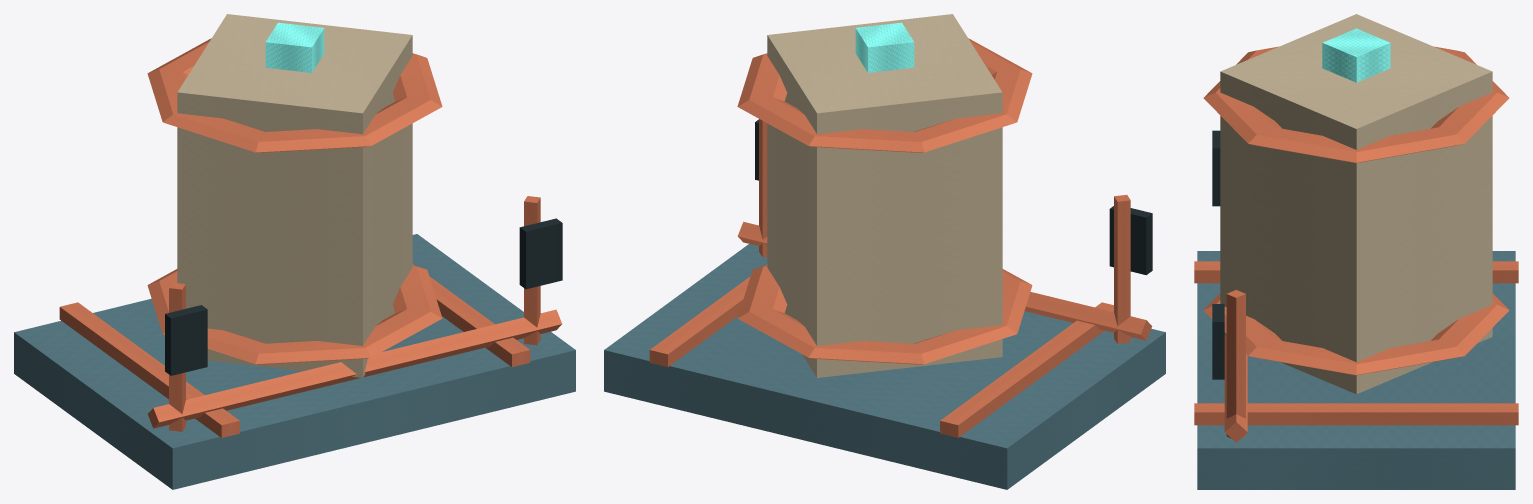
File: atlas100-s045-a02.lod2.glb
3 renders of one model, left to right at view 1: azimuth 30°, elevation 25°; view 2: azimuth 150°, elevation 25°; view 3: azimuth 270°, elevation 25°, orthographic.
Parts seen in each view (by area): view 1: atlas100-s045-a02:part-003, atlas100-s045-a02:part-000, atlas100-s045-a02:part-005, atlas100-s045-a02:part-011, atlas100-s045-a02:part-004, atlas100-s045-a02:part-001, atlas100-s045-a02:part-010, atlas100-s045-a02:part-008, atlas100-s045-a02:part-006, atlas100-s045-a02:part-002, atlas100-s045-a02:part-007, atlas100-s045-a02:part-009; view 2: atlas100-s045-a02:part-003, atlas100-s045-a02:part-000, atlas100-s045-a02:part-005, atlas100-s045-a02:part-004, atlas100-s045-a02:part-001, atlas100-s045-a02:part-011, atlas100-s045-a02:part-002, atlas100-s045-a02:part-006, atlas100-s045-a02:part-007, atlas100-s045-a02:part-008, atlas100-s045-a02:part-009; view 3: atlas100-s045-a02:part-003, atlas100-s045-a02:part-000, atlas100-s045-a02:part-005, atlas100-s045-a02:part-002, atlas100-s045-a02:part-004, atlas100-s045-a02:part-006, atlas100-s045-a02:part-009, atlas100-s045-a02:part-001, atlas100-s045-a02:part-010, atlas100-s045-a02:part-011, atlas100-s045-a02:part-008.
Boxes of the visible parts, x1,y1,x2,y2 form: atlas100-s045-a02:part-003: [177, 14, 412, 377]; atlas100-s045-a02:part-000: [14, 234, 575, 489]; atlas100-s045-a02:part-005: [147, 38, 442, 152]; atlas100-s045-a02:part-011: [147, 309, 561, 428]; atlas100-s045-a02:part-004: [147, 265, 442, 364]; atlas100-s045-a02:part-001: [59, 302, 239, 437]; atlas100-s045-a02:part-010: [519, 218, 562, 289]; atlas100-s045-a02:part-008: [165, 305, 207, 375]; atlas100-s045-a02:part-006: [265, 22, 324, 72]; atlas100-s045-a02:part-002: [412, 264, 530, 366]; atlas100-s045-a02:part-007: [169, 282, 185, 431]; atlas100-s045-a02:part-009: [524, 196, 540, 345]; atlas100-s045-a02:part-003: [767, 14, 1002, 377]; atlas100-s045-a02:part-000: [604, 244, 1165, 489]; atlas100-s045-a02:part-005: [737, 38, 1032, 152]; atlas100-s045-a02:part-004: [737, 265, 1032, 364]; atlas100-s045-a02:part-001: [940, 302, 1113, 437]; atlas100-s045-a02:part-011: [737, 221, 1152, 340]; atlas100-s045-a02:part-002: [649, 264, 767, 366]; atlas100-s045-a02:part-006: [855, 22, 914, 72]; atlas100-s045-a02:part-007: [1114, 195, 1130, 343]; atlas100-s045-a02:part-008: [1109, 206, 1152, 275]; atlas100-s045-a02:part-009: [759, 119, 767, 257]; atlas100-s045-a02:part-003: [1220, 14, 1492, 394]; atlas100-s045-a02:part-000: [1197, 251, 1515, 489]; atlas100-s045-a02:part-005: [1203, 46, 1509, 162]; atlas100-s045-a02:part-002: [1194, 403, 1518, 425]; atlas100-s045-a02:part-004: [1203, 293, 1509, 375]; atlas100-s045-a02:part-006: [1322, 28, 1390, 82]; atlas100-s045-a02:part-009: [1226, 290, 1245, 438]; atlas100-s045-a02:part-001: [1194, 261, 1518, 283]; atlas100-s045-a02:part-010: [1212, 304, 1224, 379]; atlas100-s045-a02:part-011: [1224, 335, 1247, 442]; atlas100-s045-a02:part-008: [1212, 130, 1220, 206].
Bounding box in the file's own units: 2.64 × 2.18 × 1.84.
5 materials, 5 textured.
